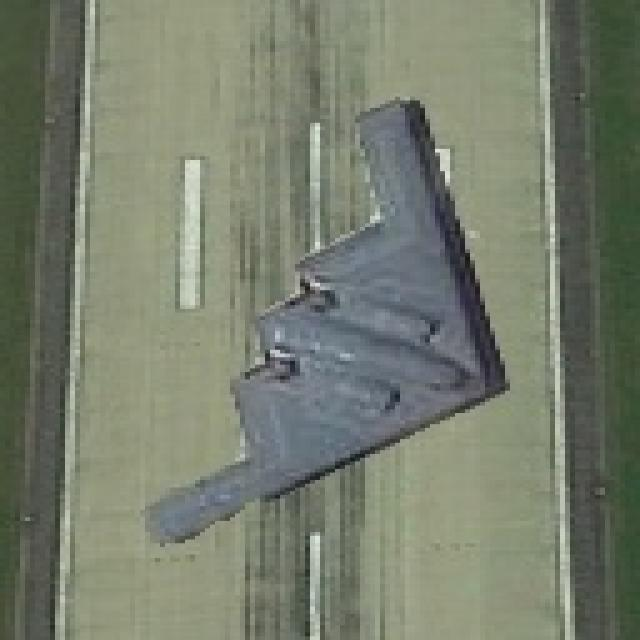B-2_TopDown: (135, 89, 510, 547)
